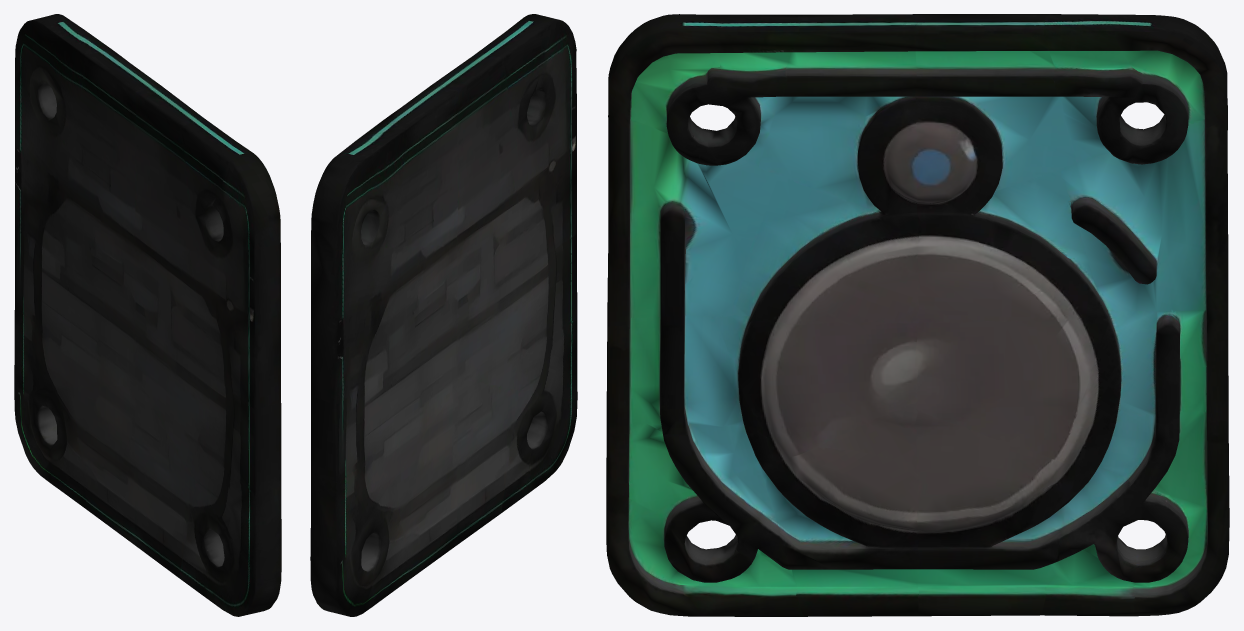
File: speaker.glb
3 renders of one model, left to right at view 1: azimuth 30°, elevation 25°; view 2: azimuth 150°, elevation 25°; view 3: azimuth 270°, elevation 25°, orthographic. The views are drawn at different scales.
Visible parts, largest first — view 1: tripo_node_55bf0eb7-2881-40e1-847a-2744b5aca7f8; view 2: tripo_node_55bf0eb7-2881-40e1-847a-2744b5aca7f8; view 3: tripo_node_55bf0eb7-2881-40e1-847a-2744b5aca7f8.
Part boxes in pixels (x1,y1,x2,y2): tripo_node_55bf0eb7-2881-40e1-847a-2744b5aca7f8: (14,14,281,616); tripo_node_55bf0eb7-2881-40e1-847a-2744b5aca7f8: (310,14,577,616); tripo_node_55bf0eb7-2881-40e1-847a-2744b5aca7f8: (606,14,1229,616).
Size of the model in its own units: 0.0627 by 0.9999 by 0.9613.
1 material, 1 textured.
